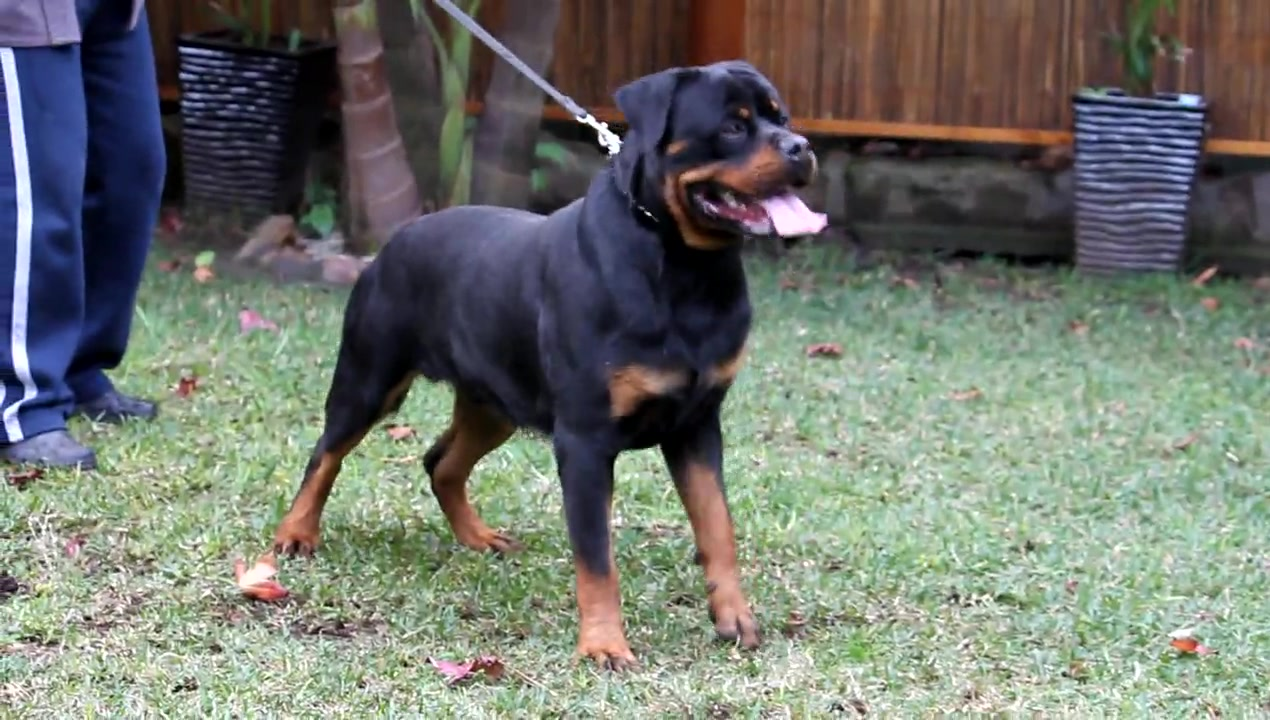dog: (274, 60, 833, 674)
